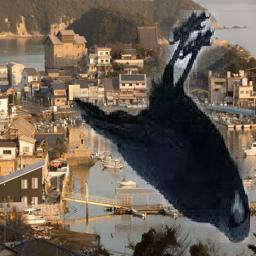Crow: (74, 11, 251, 244)
